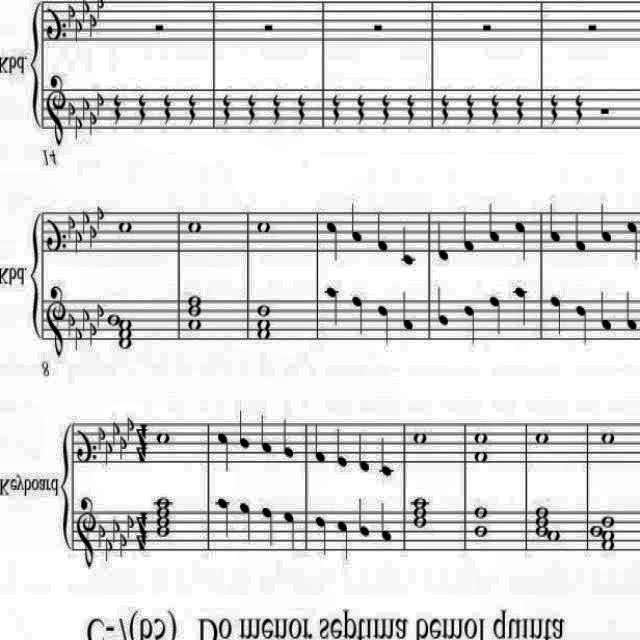Bass-clef: (46, 218, 62, 255), (46, 6, 62, 42), (76, 428, 92, 464)
Bemol: (97, 519, 107, 550), (105, 537, 114, 563), (68, 215, 76, 241), (68, 101, 76, 127), (74, 116, 82, 142), (68, 314, 76, 338), (90, 113, 98, 137), (127, 516, 135, 539), (98, 426, 105, 452), (68, 6, 76, 28), (120, 534, 127, 559), (113, 519, 120, 543), (91, 322, 97, 350), (90, 224, 96, 252), (96, 0, 104, 20), (105, 441, 111, 467), (121, 436, 127, 462), (76, 19, 82, 45), (113, 424, 119, 448), (127, 418, 133, 442), (76, 328, 82, 352), (83, 310, 89, 334), (98, 304, 104, 328), (76, 230, 82, 254), (83, 212, 89, 236), (98, 206, 104, 230), (83, 98, 89, 122), (98, 92, 104, 116), (90, 15, 96, 38), (83, 2, 89, 24)
Full-note: (411, 496, 431, 532), (536, 506, 548, 538)
Full-rest: (262, 22, 274, 36), (154, 23, 166, 34), (374, 25, 386, 35), (482, 24, 490, 34)
Half-rest: (600, 105, 610, 118)
Quarter-note: (324, 286, 340, 326), (378, 436, 392, 479), (217, 497, 230, 539), (260, 412, 272, 456), (238, 504, 250, 544), (262, 508, 274, 548), (316, 516, 328, 556), (336, 522, 348, 562), (358, 436, 370, 476), (336, 428, 348, 468), (314, 424, 326, 464), (218, 434, 230, 474), (377, 306, 389, 346), (464, 306, 476, 346), (490, 296, 502, 336), (514, 286, 526, 326), (550, 296, 562, 336), (576, 305, 588, 345), (600, 290, 612, 330), (626, 291, 638, 331), (600, 203, 612, 243), (402, 226, 414, 266), (284, 513, 296, 551), (550, 204, 562, 242), (464, 213, 476, 251), (358, 498, 369, 538), (381, 502, 392, 542), (402, 291, 413, 331), (239, 409, 249, 451), (488, 204, 499, 242), (284, 418, 294, 459), (352, 296, 362, 336), (438, 286, 448, 326), (627, 222, 637, 262), (575, 212, 585, 252), (437, 222, 447, 262), (378, 212, 388, 252), (352, 202, 362, 242), (327, 222, 337, 262), (515, 223, 525, 261)
Quarter-rest: (248, 92, 256, 126), (138, 94, 146, 126), (164, 94, 172, 126), (188, 94, 196, 126), (273, 94, 281, 126), (357, 94, 365, 126), (516, 94, 524, 126), (114, 94, 122, 125), (382, 94, 390, 125), (332, 94, 340, 124), (407, 94, 415, 124), (298, 95, 306, 124), (223, 96, 231, 124), (442, 96, 450, 124), (466, 96, 474, 124), (492, 96, 500, 124), (551, 96, 559, 124), (576, 96, 584, 124)
Treble-clef: (70, 493, 96, 567), (44, 271, 64, 359), (45, 61, 59, 151)
